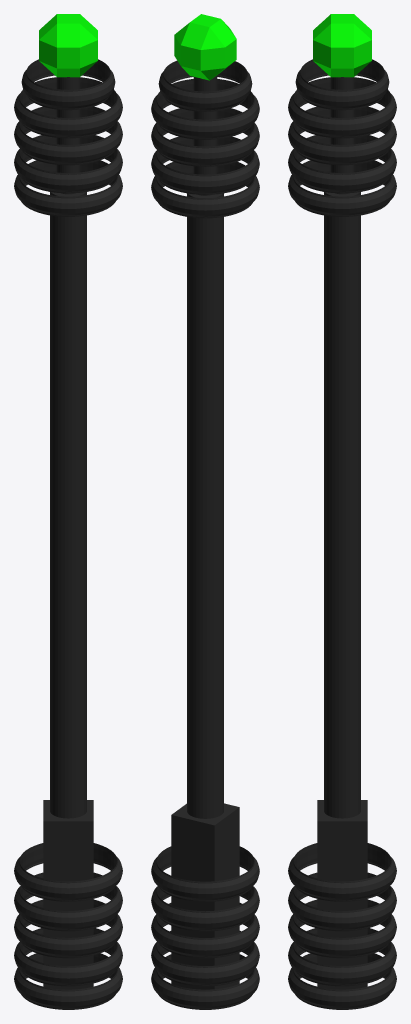
The model's file is Tesla Tower.fbx.
3 views of the same model, side by side, from view 1: azimuth 90°, elevation 25°; view 2: azimuth 150°, elevation 25°; view 3: azimuth 270°, elevation 25° (orthographic).
Visible parts, largest first — view 1: Tower, Ball; view 2: Tower, Ball; view 3: Tower, Ball.
Part boxes in pixels (x1,y1,x2,y2): Tower: (14,59,122,1009); Ball: (39,14,97,77); Tower: (151,60,259,1009); Ball: (174,14,236,80); Tower: (288,59,396,1009); Ball: (313,14,371,77).
Bounding box in the file's own units: 141 × 1396 × 141.
